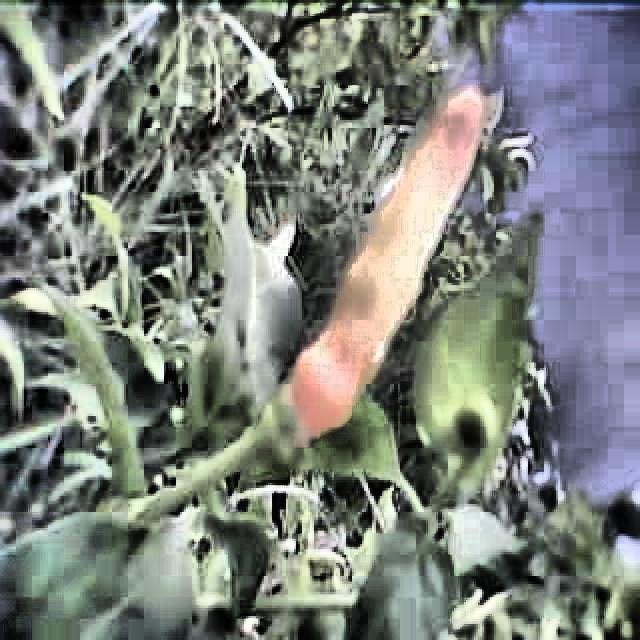Cabai: (279, 84, 488, 440)
